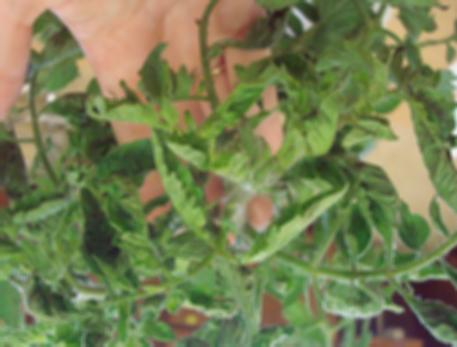Tomato leaf mosaic virus: (233, 186, 344, 270), (152, 131, 219, 251), (196, 80, 271, 138), (102, 173, 148, 260), (392, 200, 434, 253), (243, 322, 296, 347)
